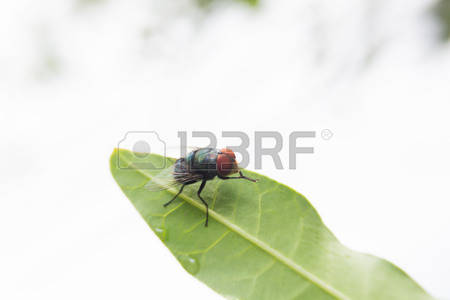green bottles flies: (157, 124, 263, 235)
